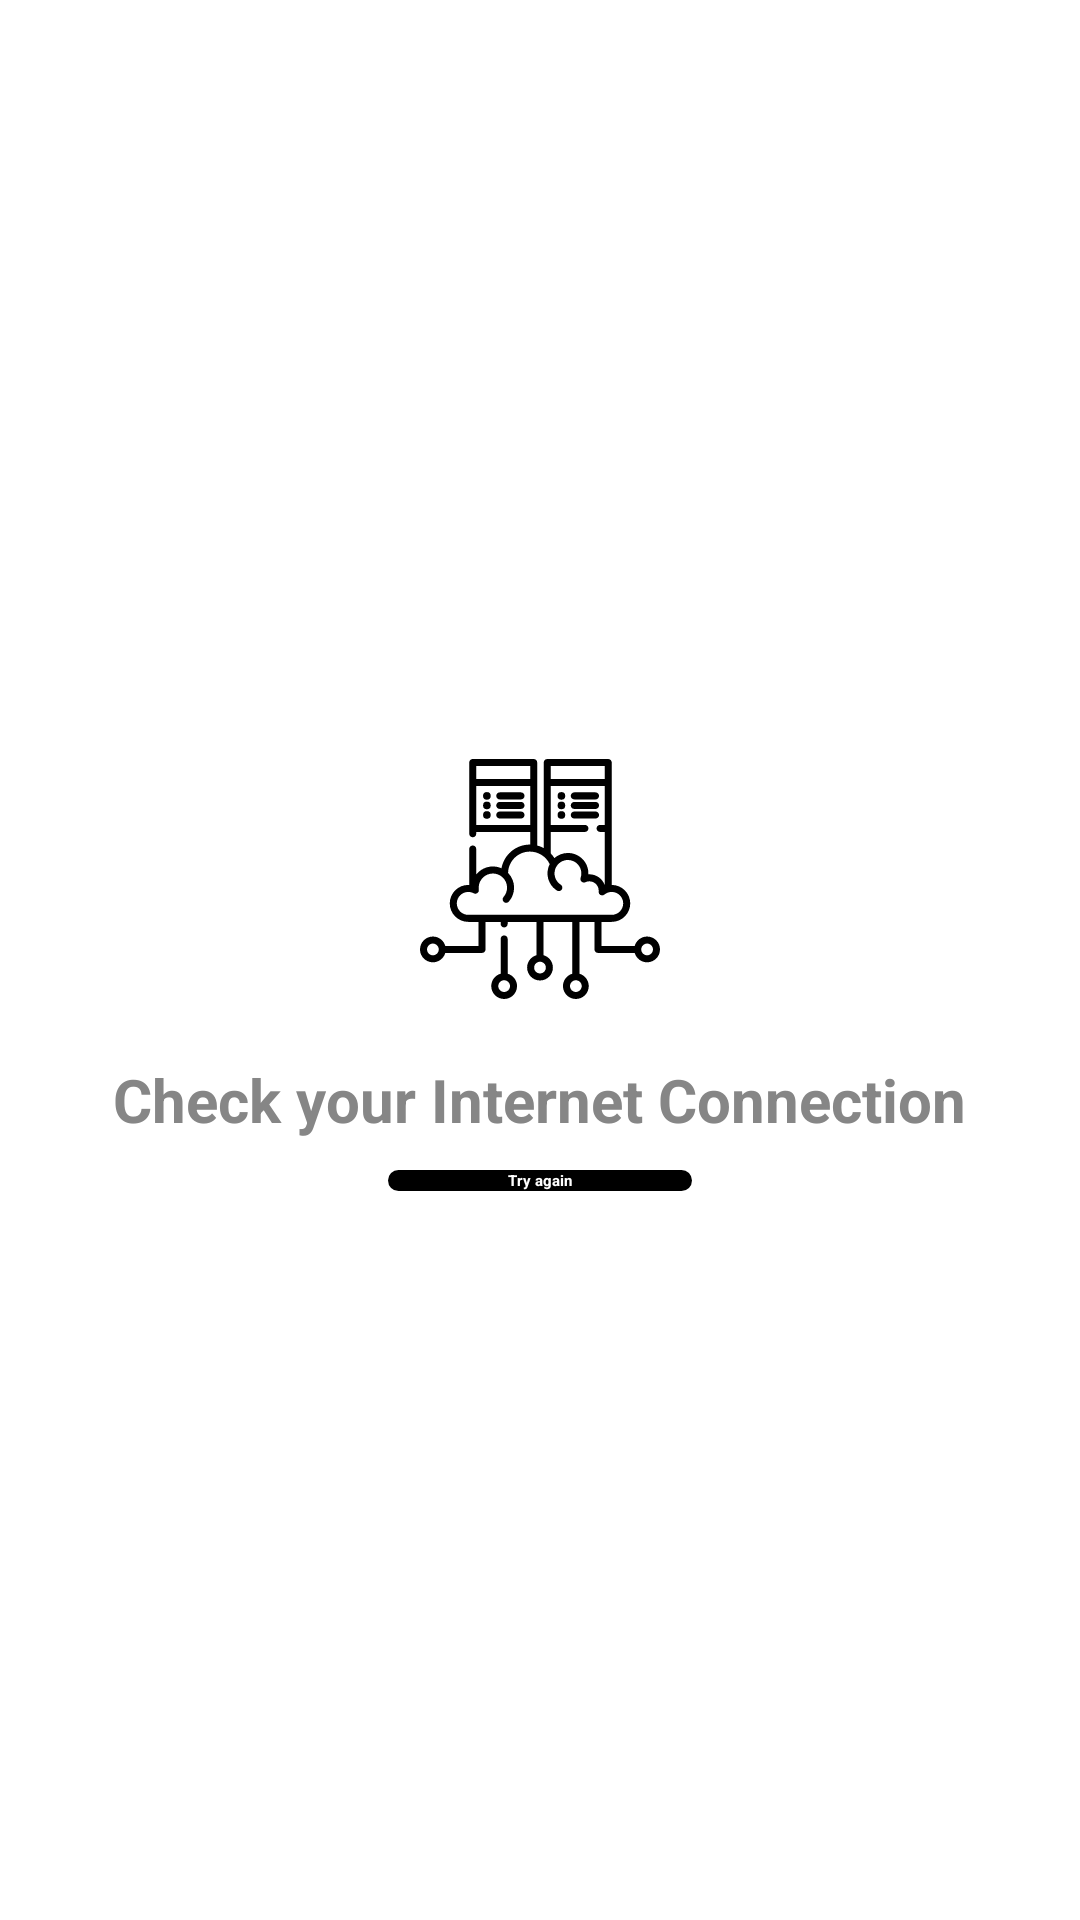

Icons on this 1080*1920 Android screen, each with its box as bbox(x1, y1, x2, y2):
server: bbox(420, 759, 660, 999)
